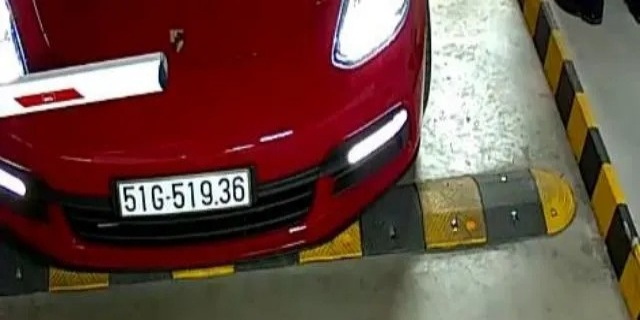bien_so: (119, 175, 246, 213)
